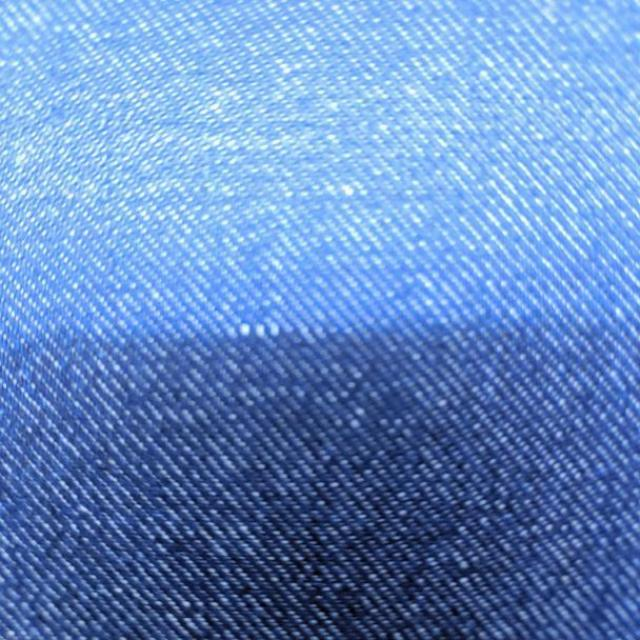Knot: (227, 322, 281, 338)
